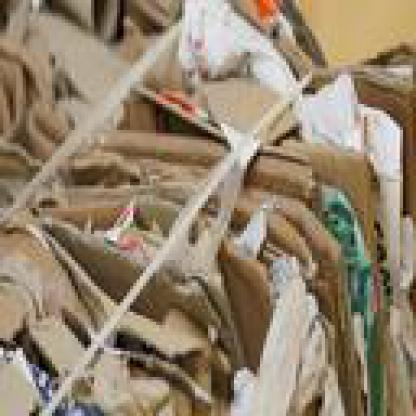CARDBOARD: (0, 0, 413, 413), (0, 35, 403, 412), (137, 49, 413, 413), (0, 172, 358, 413), (20, 208, 244, 413), (0, 224, 182, 413), (36, 234, 221, 413), (0, 0, 124, 172), (231, 0, 414, 85), (52, 0, 179, 68), (354, 61, 413, 204)
